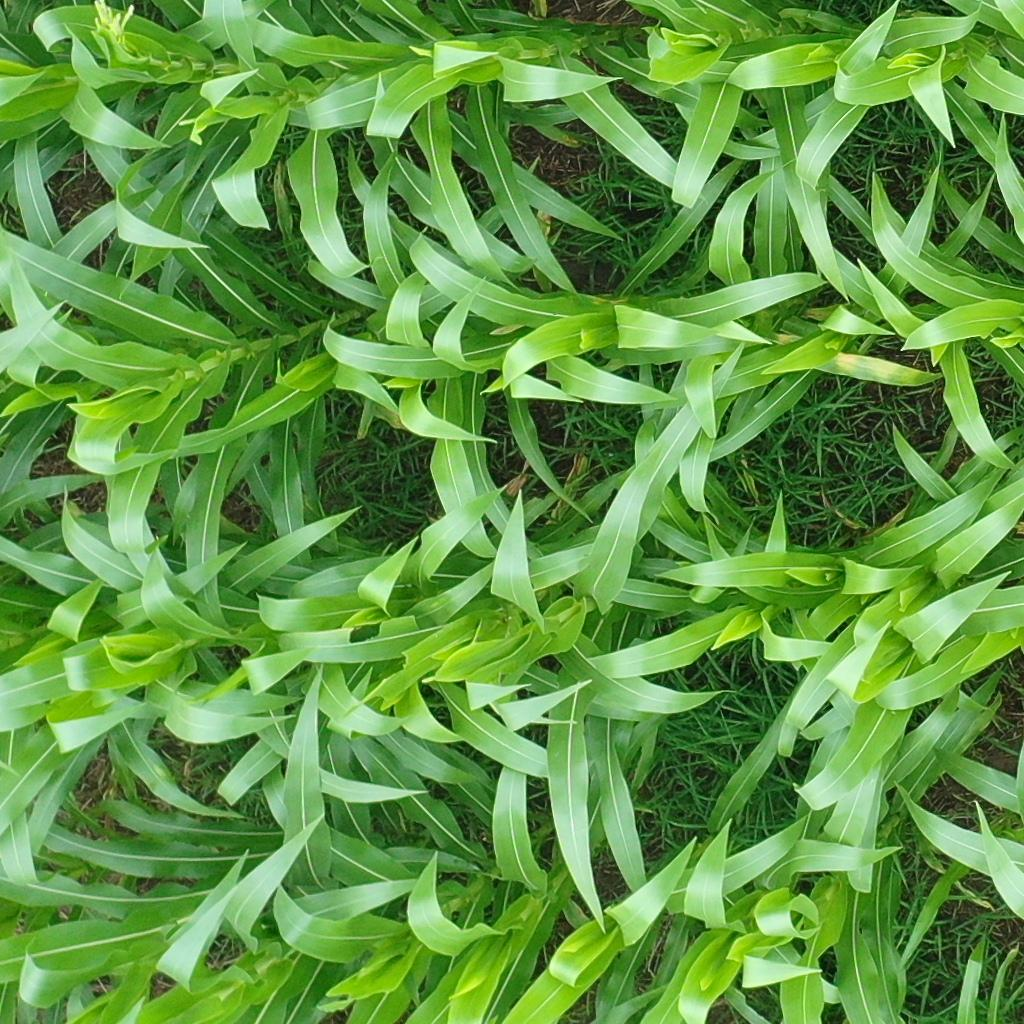Tassel: (82, 1, 143, 63)
